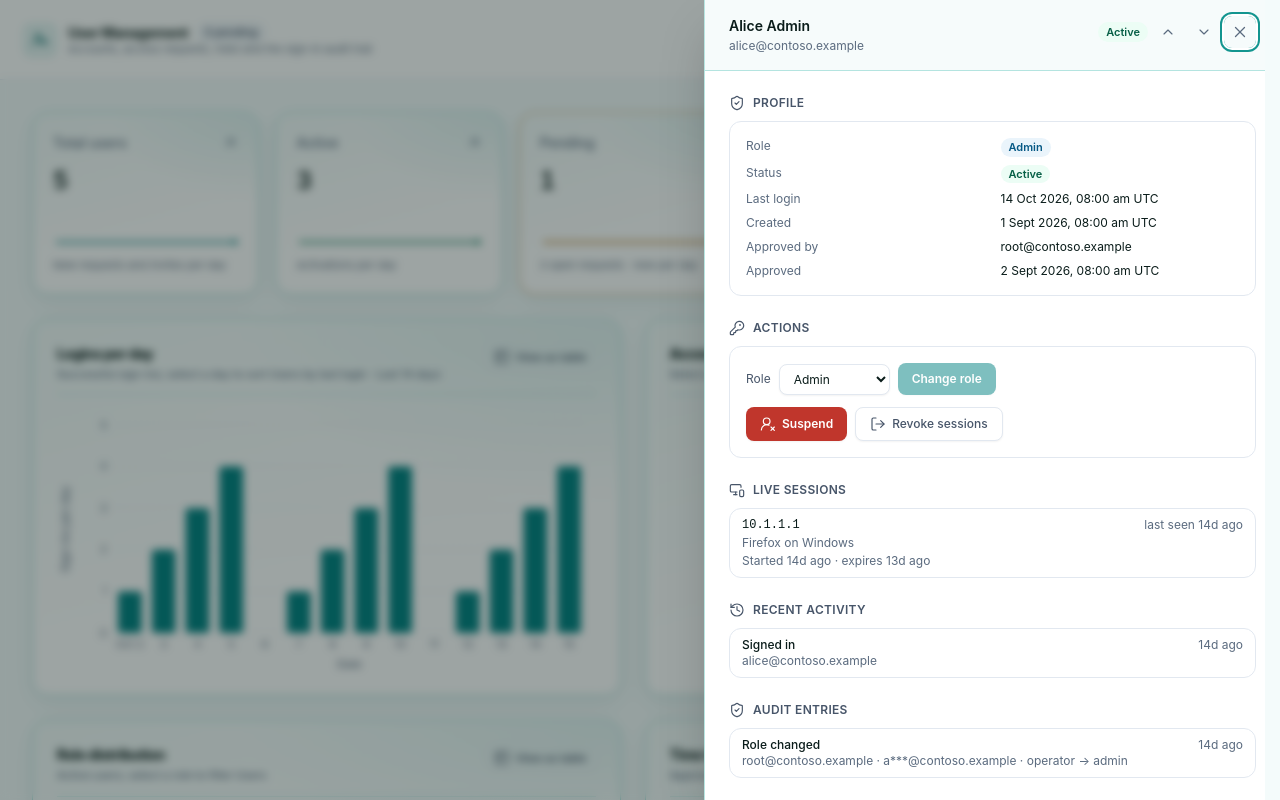
Users tab › a 409 rolls back, refetches and shows the conflict toast with the server reason
Select "Superadmin" in the dropdown labelled "Role" at (834, 379), box [779, 364, 890, 395]
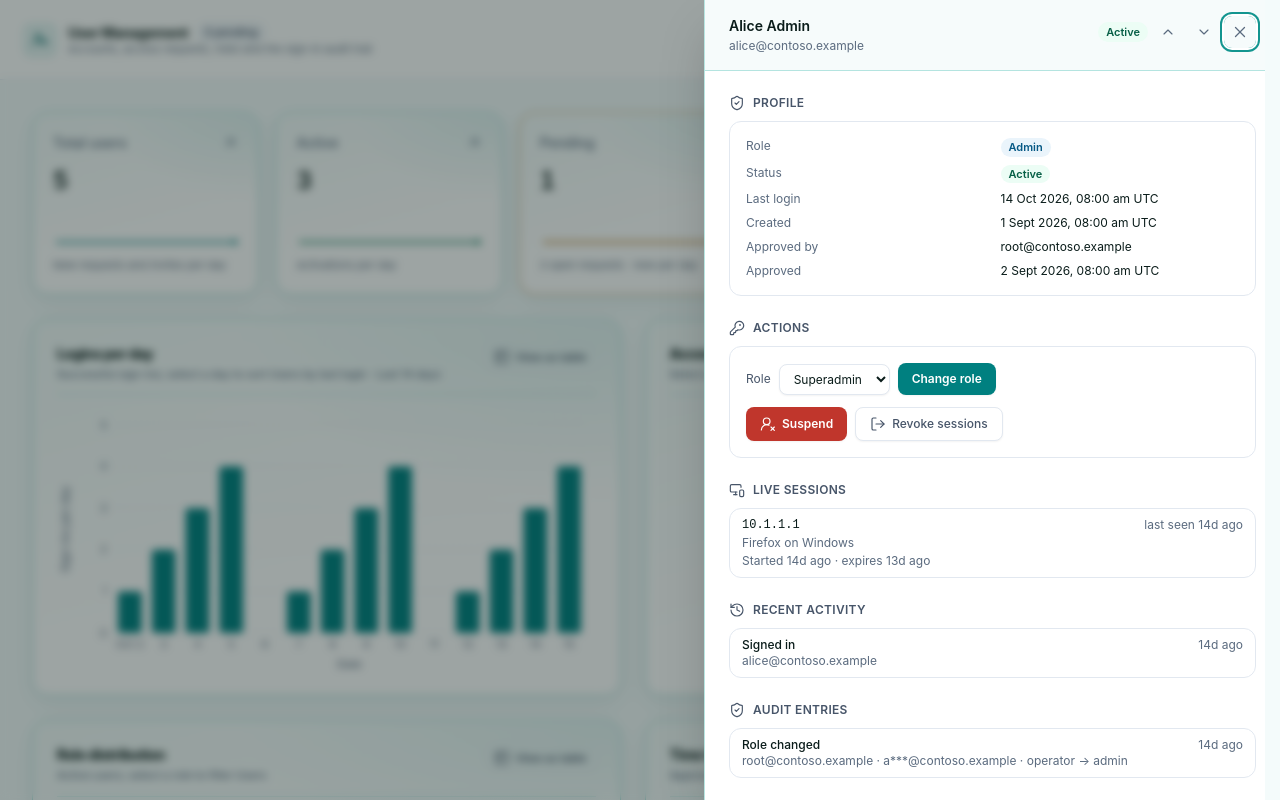
Click the button "Change role" at (947, 379), box [898, 363, 996, 395]
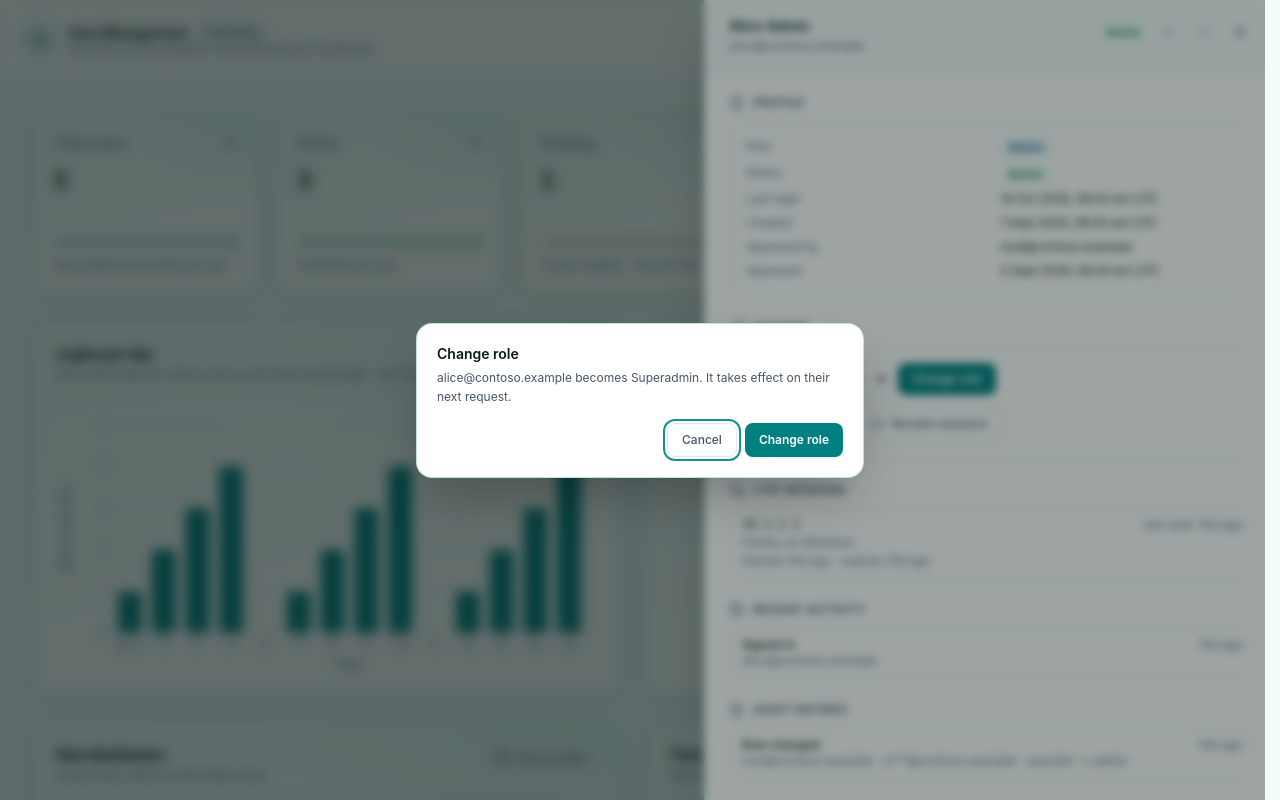
Click the button "Change role" at (794, 440), box [745, 422, 843, 456]
(page scrolled)
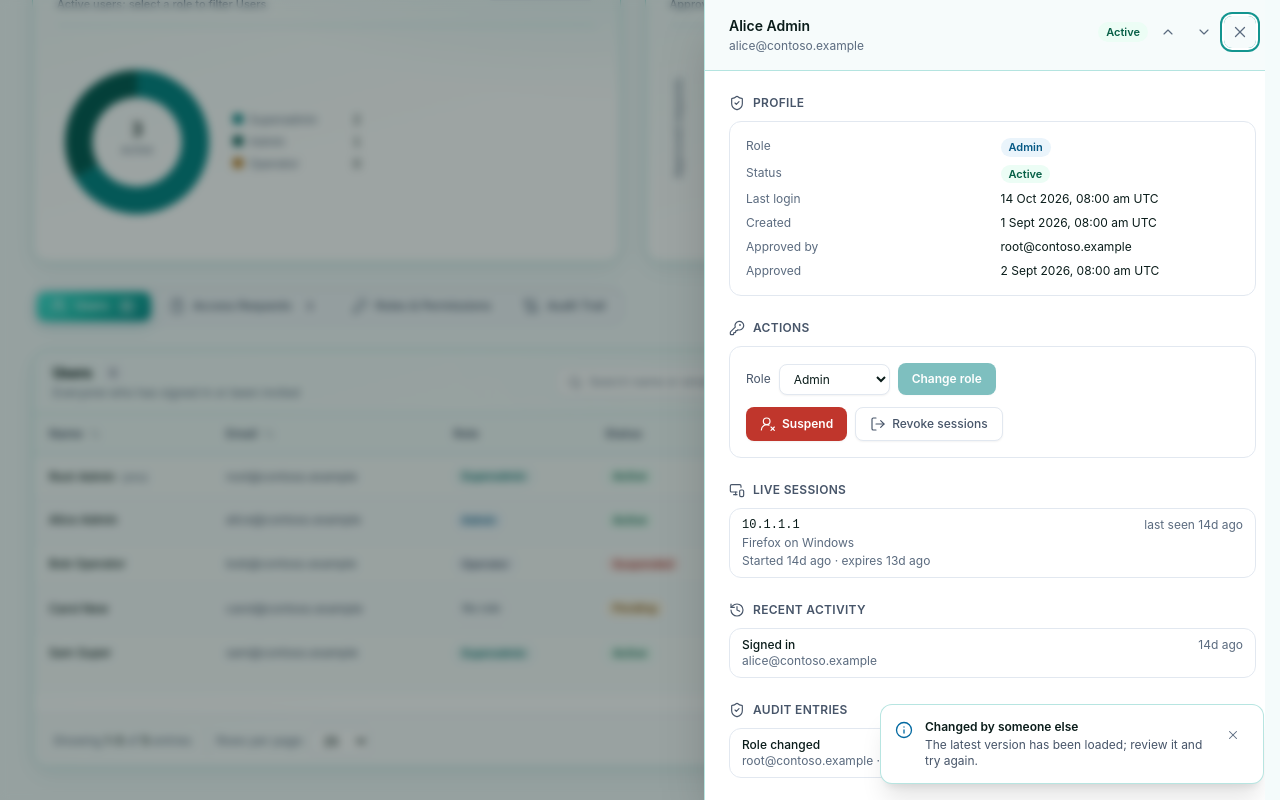
Expected: the text "Admin" below "Email" is shown, [462, 513, 496, 527]
Now the text "Changed by someone else" is shown, box [925, 719, 1078, 734]
